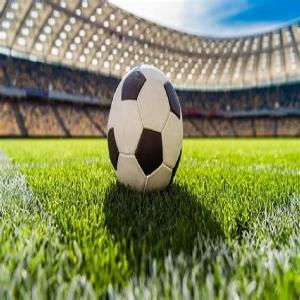Football: (108, 65, 182, 195)
